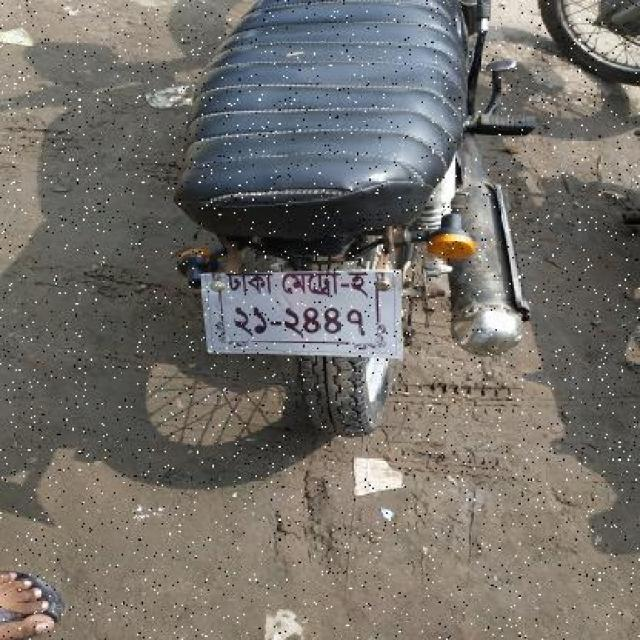numberplate: (197, 268, 401, 358)
